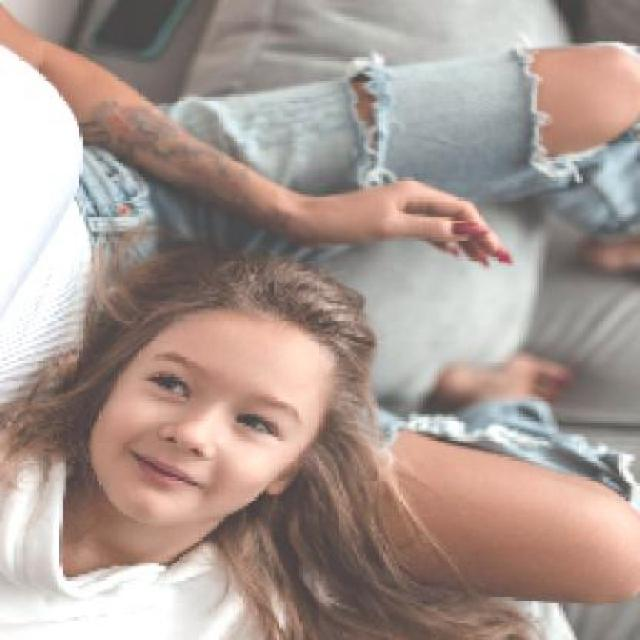child: (2, 245, 532, 638)
